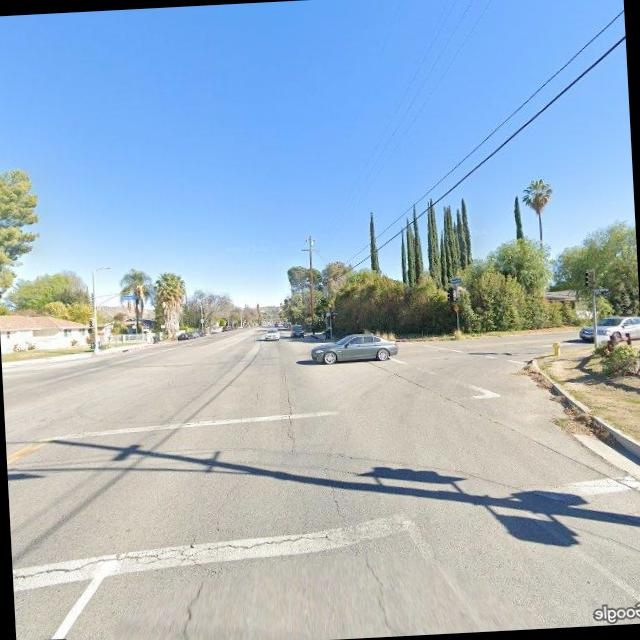crack: (12, 522, 376, 586), (171, 579, 209, 640), (278, 366, 302, 453)
